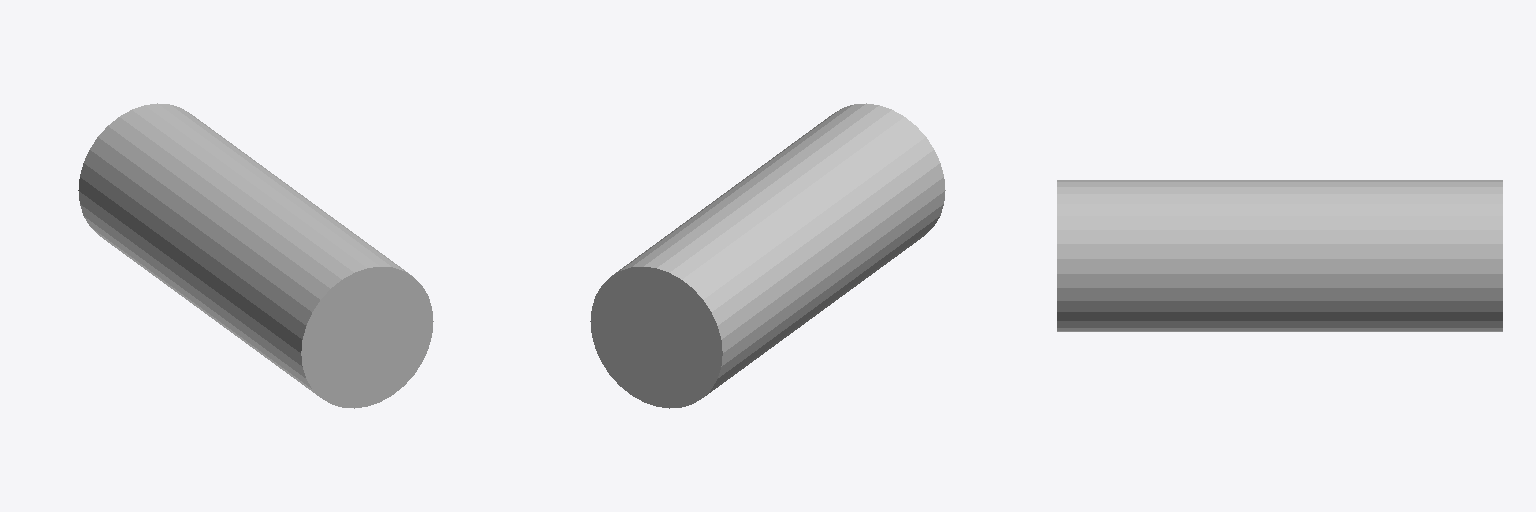
The model's file is Candle2.obj.
3 views of the same model, side by side, from view 1: azimuth 30°, elevation 25°; view 2: azimuth 150°, elevation 25°; view 3: azimuth 270°, elevation 25° (orthographic).
Visible parts, largest first — view 1: Candle2_Cylinder; view 2: Candle2_Cylinder; view 3: Candle2_Cylinder.
Part boxes in pixels (x1,y1,x2,y2): Candle2_Cylinder: (78,103,433,408); Candle2_Cylinder: (590,103,945,408); Candle2_Cylinder: (1057,180,1502,331).
Bounding box in the file's own units: 0.1724 × 0.1724 × 0.5031.